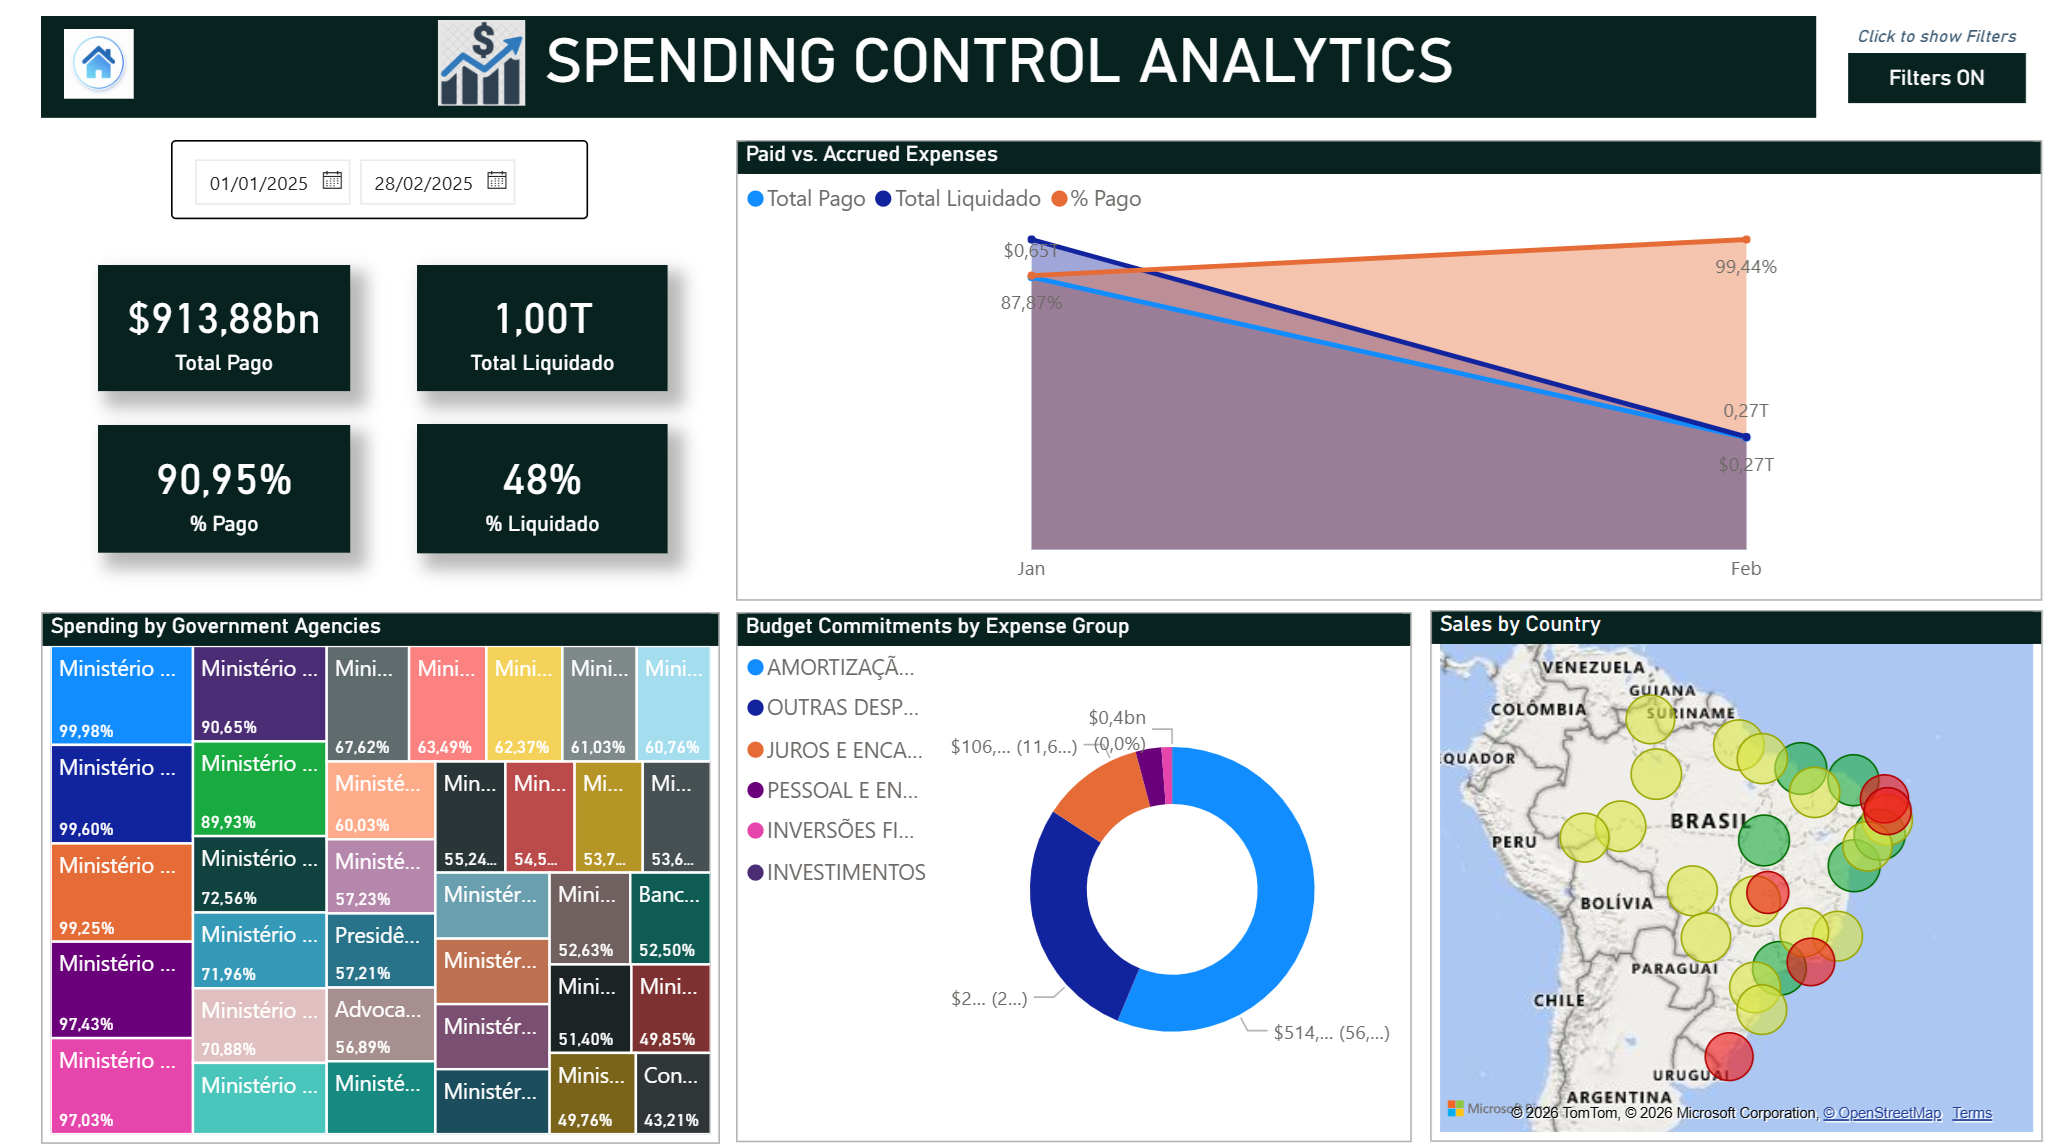

What the dashboard file says about the page in this screenshot:
{"tool":"powerbi","page":{"name":"Expense Control","canvas":[1280,720],"ordinal":1},"visuals":[{"type":"textbox","box":[1023.3,102.9,241.2,36.4],"z":0},{"type":"textbox","box":[1126.1,10.6,126.8,39.9],"z":1000},{"type":"areaChart","title":"Paid vs. Accrued Expenses","fields":{"Category":["Dim_Calendario.Mes Nome","Dim_Calendario.Trimestre","Dim_Calendario.AnoMes Texto.Variation.Date Hierarchy.Year"],"Y":["Messure.Total Pago","Messure.Total Liquidado"],"Y2":["Messure.% Pago"]},"box":[456.7,90.4,807.8,284.6],"z":2000},{"type":"treemap","title":"Spending by Government Agencies","fields":{"Group":["Dim_Orgao.Nome Órgão Superior"],"Values":["Messure.% Pago"]},"box":[26.6,382.2,420.3,329],"z":3000},{"type":"textbox","box":[26.6,13.3,1097.7,63],"z":4000},{"type":"map","title":"Sales by Country","fields":{"Category":["Dim_UF.Estado_Display"],"Size":["Messure.% Pago"]},"box":[885.8,381.3,378.6,329],"z":5000},{"type":"card","fields":{"Values":["Messure.Total Pago"]},"box":[62.1,167.6,156.1,78],"z":7000},{"type":"card","fields":{"Values":["Messure.% Liquidado"]},"box":[258.9,266,155.2,79.8],"z":8000},{"type":"actionButton","box":[1144.6,36.3,110,31],"z":14000},{"type":"card","fields":{"Values":["Messure.% Pago"]},"box":[62.1,266.9,156.1,78.9],"z":15000},{"type":"card","fields":{"Values":["Messure.Total Liquidado"]},"box":[258.9,167.6,155.2,78],"z":16000},{"type":"donutChart","title":"Budget Commitments by Expense Group","fields":{"Category":["Dim_Despesa.Nome Grupo de Despesa"],"Y":["Messure.Total Pago"]},"box":[456.7,382.2,417.6,328.1],"z":17000},{"type":"image","box":[250.9,16,95.8,53.2],"z":18000},{"type":"slicer","fields":{"Values":["Dim_Calendario.AnoMes"]},"box":[107.3,90.4,258,48.8],"z":21000},{"type":"actionButton","box":[40.6,21.5,42.9,42.9],"z":31001}]}

Visuals, with their boxes in screenshot pixels (x1, y1, x2, y2), scaled from the page's 1280x720 canvas onto the 2051x1148 screenshot:
textbox: bbox(1640, 164, 2026, 222)
textbox: bbox(1804, 17, 2008, 81)
"Paid vs. Accrued Expenses" areaChart: bbox(732, 144, 2026, 598)
"Spending by Government Agencies" treemap: bbox(43, 609, 716, 1134)
textbox: bbox(43, 21, 1802, 122)
"Sales by Country" map: bbox(1419, 608, 2026, 1133)
card - Messure.Total Pago: bbox(100, 267, 350, 392)
card - Messure.% Liquidado: bbox(415, 424, 664, 551)
actionButton: bbox(1834, 58, 2010, 107)
card - Messure.% Pago: bbox(100, 426, 350, 551)
card - Messure.Total Liquidado: bbox(415, 267, 664, 392)
"Budget Commitments by Expense Group" donutChart: bbox(732, 609, 1401, 1133)
image: bbox(402, 26, 556, 110)
slicer - Dim_Calendario.AnoMes: bbox(172, 144, 585, 222)
actionButton: bbox(65, 34, 134, 103)
